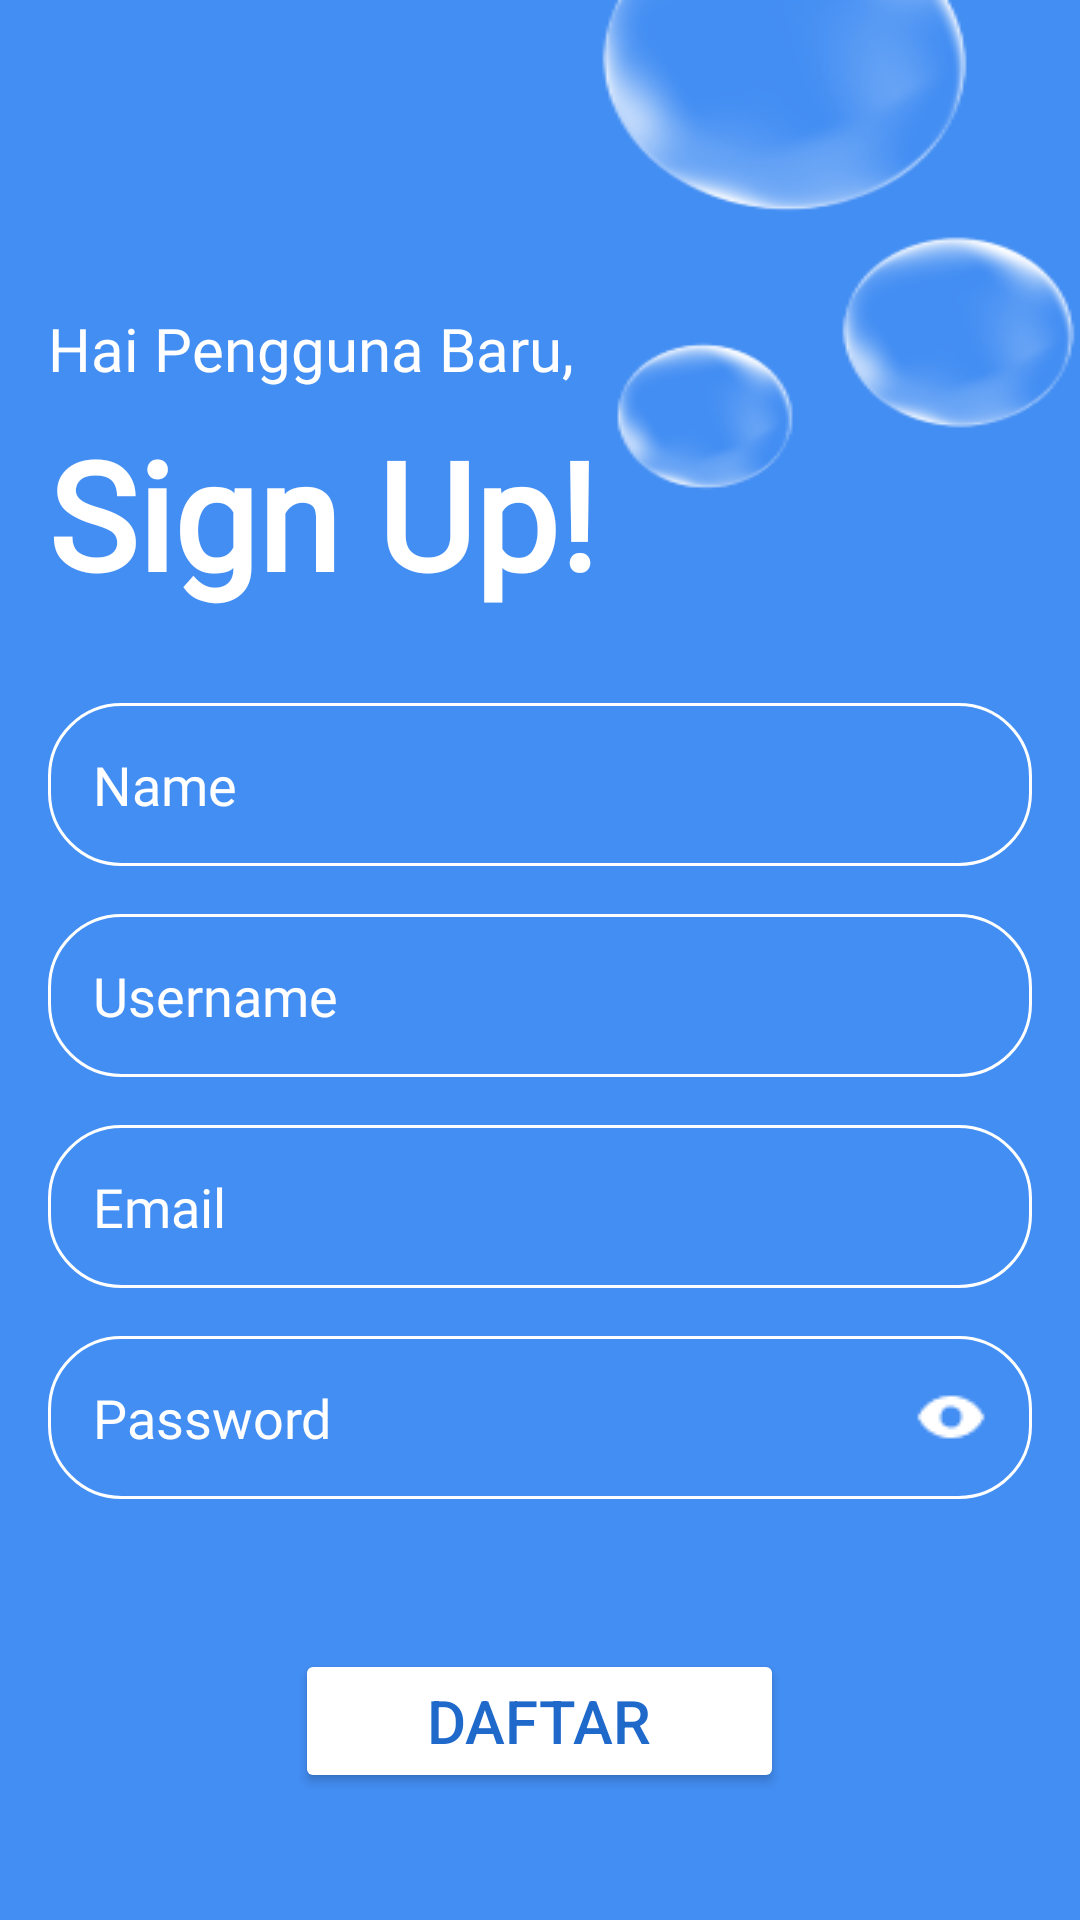

Named icons in this screenshot (1080w x 1920h) and their bounding boxes, bbox(x1, y1, x2, y2):
passtogel: bbox(917, 1395, 985, 1439)
